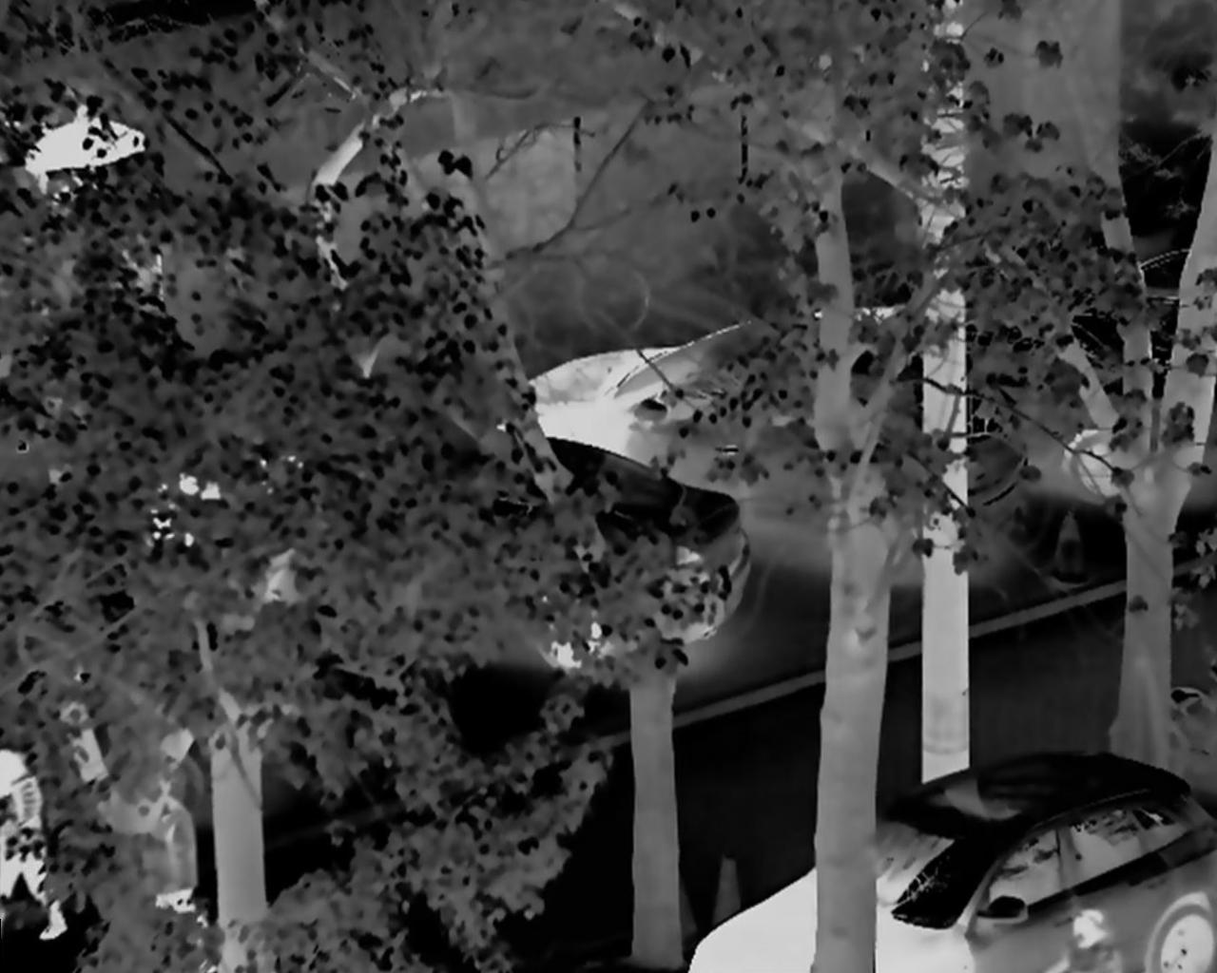person: (132, 784, 203, 947)
